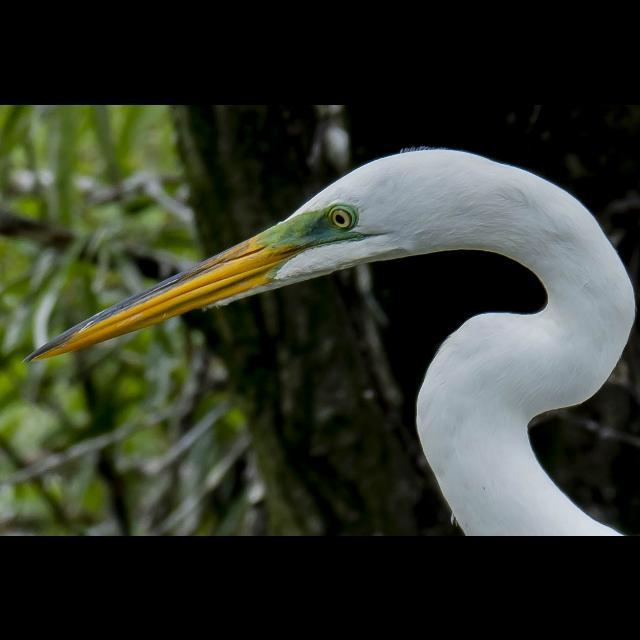egret: (20, 144, 640, 536)
